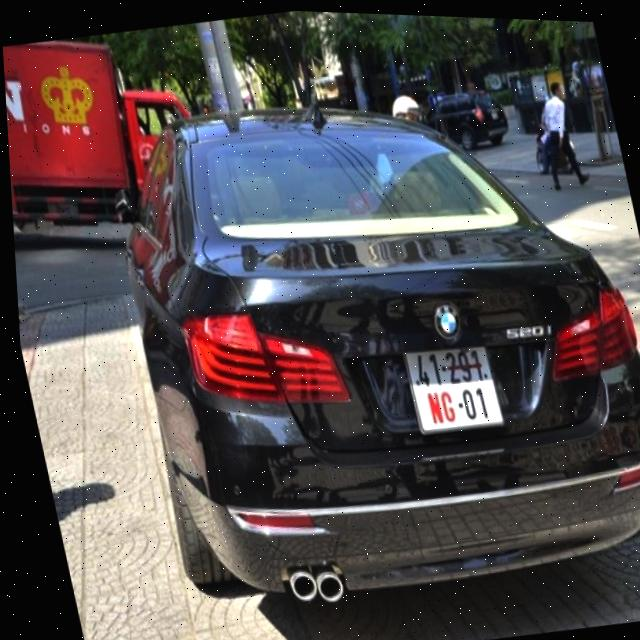car: (87, 46, 640, 640), (1, 19, 220, 261), (411, 76, 519, 171)
plate: (387, 327, 516, 451)
